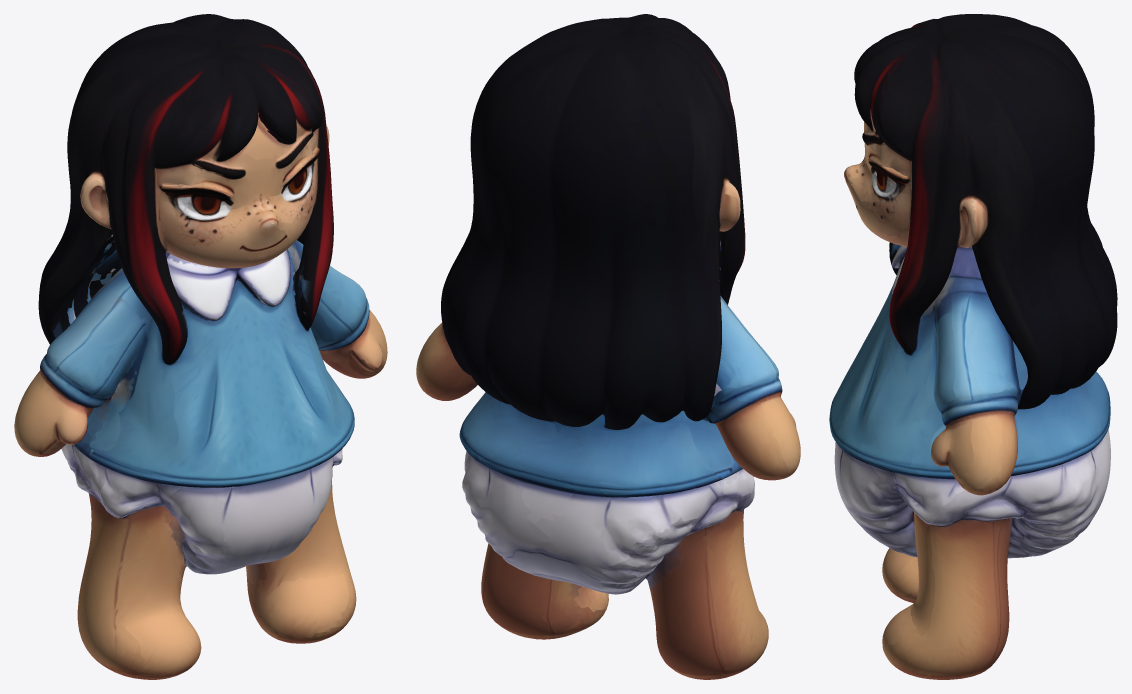
Rendered from juliedoll.glb.
3 renders of one model, left to right at view 1: azimuth 30°, elevation 25°; view 2: azimuth 150°, elevation 25°; view 3: azimuth 270°, elevation 25°, orthographic. The views are drawn at different scales.
Visible parts, largest first — view 1: temp_mesh.ply; view 2: temp_mesh.ply; view 3: temp_mesh.ply.
Part boxes in pixels (left/top/right/bottom): temp_mesh.ply: left=14, top=14, right=387, bottom=679; temp_mesh.ply: left=416, top=14, right=800, bottom=679; temp_mesh.ply: left=829, top=14, right=1117, bottom=679.
Bounding box in the file's own units: 1.24 × 1.96 × 0.8542.
Materials: 1 (1 with a texture image).
